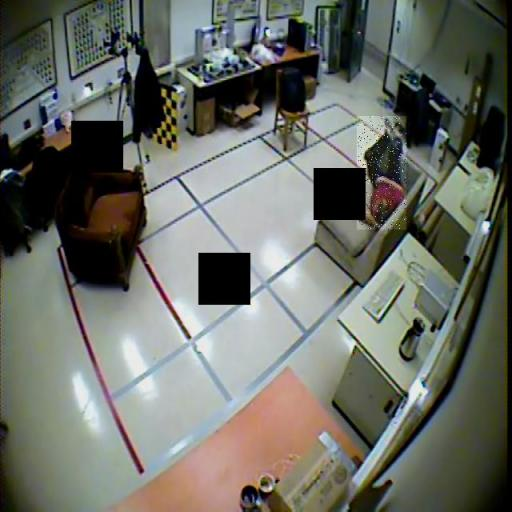Fall: (357, 116, 406, 230)
